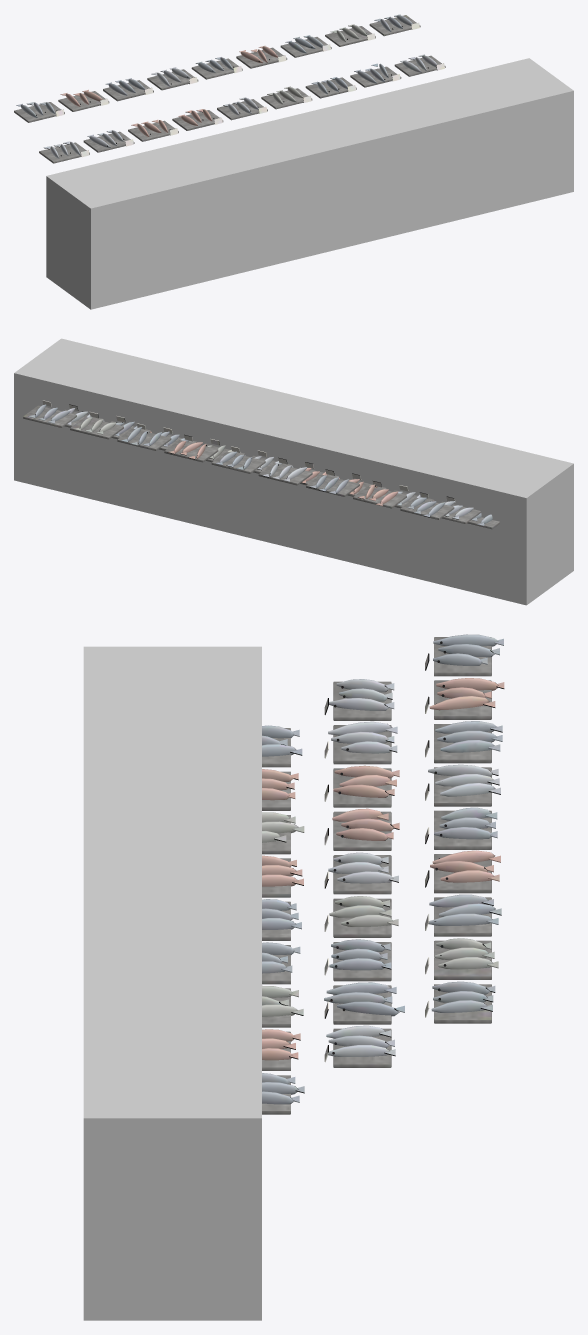
The model's file is sf03_goods.gltf.
The picture shows the model from 3 angles, top to bottom: view 1: azimuth 30°, elevation 25°; view 2: azimuth 150°, elevation 25°; view 3: azimuth 270°, elevation 25°; orthographic projection. The views are drawn at different scales.
Visible parts, largest first — view 1: sf03_goods_COL, sf03_goods_LOD0; view 2: sf03_goods_COL, sf03_goods_LOD0; view 3: sf03_goods_COL, sf03_goods_LOD0.
Boxes of the visible parts, bbox=[...] form: sf03_goods_COL: bbox=[46, 58, 573, 309]; sf03_goods_LOD0: bbox=[14, 14, 445, 163]; sf03_goods_COL: bbox=[14, 338, 573, 605]; sf03_goods_LOD0: bbox=[23, 400, 499, 529]; sf03_goods_COL: bbox=[83, 646, 261, 1320]; sf03_goods_LOD0: bbox=[262, 634, 504, 1114].
Size of what is drawn, in the model's own units: 5 by 1.22 by 1.89.
Materials: 1 (1 with a texture image).
